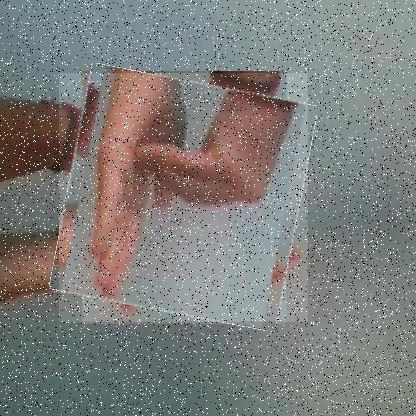Z: (59, 73, 309, 323)
